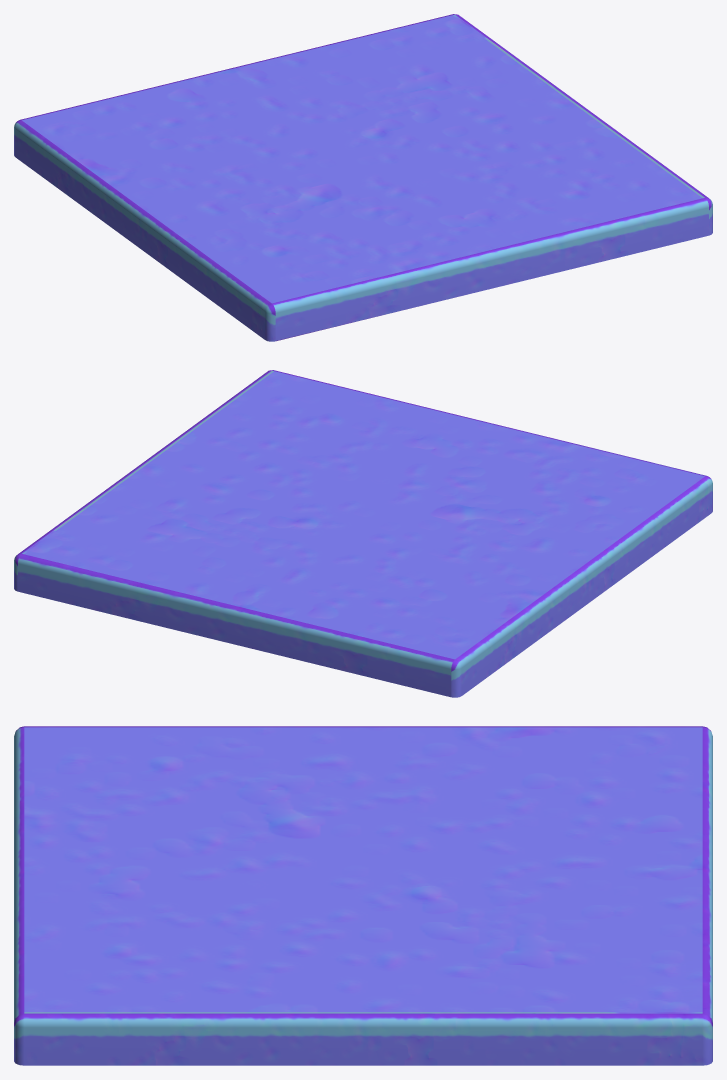
File: sm_curb_03_wide.fbx
3 renders of one model, top to bottom at view 1: azimuth 30°, elevation 25°; view 2: azimuth 150°, elevation 25°; view 3: azimuth 270°, elevation 25°, orthographic. The views are drawn at different scales.
Parts seen in each view (by area): view 1: sm_curb_03_wide; view 2: sm_curb_03_wide; view 3: sm_curb_03_wide.
Part boxes in pixels (box(x1,y1,x2,y2)): sm_curb_03_wide: box(14, 14, 712, 341); sm_curb_03_wide: box(14, 370, 712, 697); sm_curb_03_wide: box(14, 726, 712, 1065).
Size of the model in its own units: 200 by 15 by 200.
Materials: 1 (1 with a texture image).
